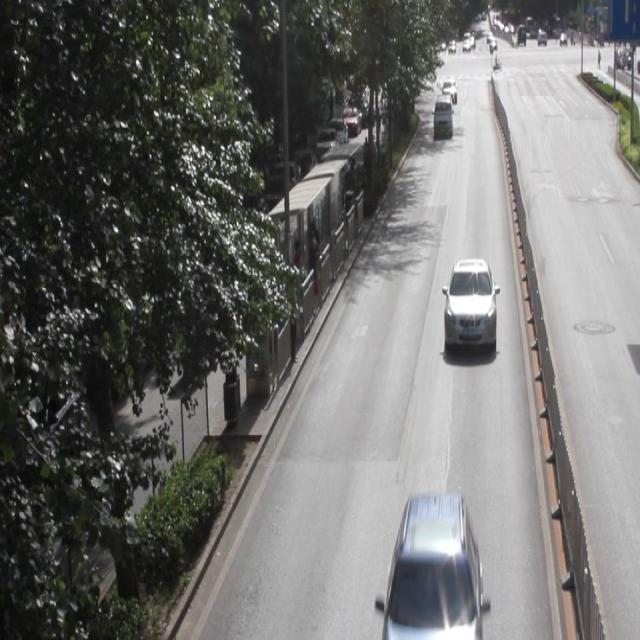car: (386, 492, 481, 640), (444, 259, 495, 351)
